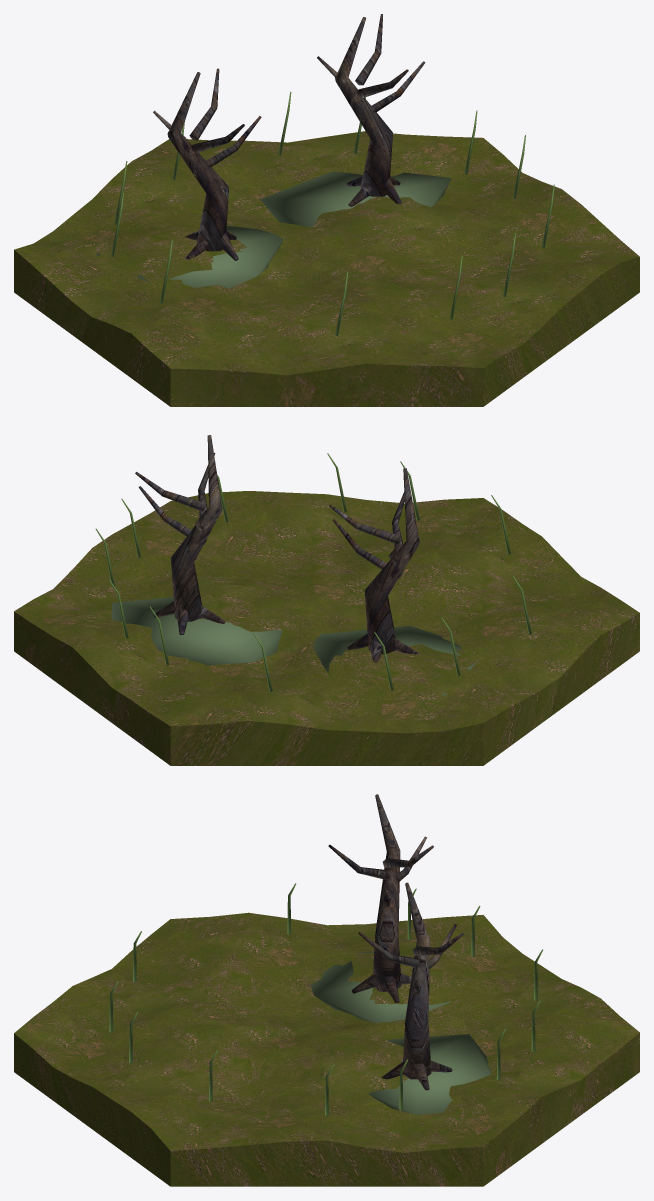
The model's file is env-terrain-swamp-mobile.glb.
3 renders of one model, top to bottom at view 1: azimuth 30°, elevation 25°; view 2: azimuth 150°, elevation 25°; view 3: azimuth 270°, elevation 25°, orthographic.
Parts seen in each view (by area): view 1: terrain swamp · authored textured miniature; view 2: terrain swamp · authored textured miniature; view 3: terrain swamp · authored textured miniature.
Part boxes in pixels (left/top/right/bottom): terrain swamp · authored textured miniature: left=14, top=14, right=639, bottom=406; terrain swamp · authored textured miniature: left=14, top=435, right=639, bottom=765; terrain swamp · authored textured miniature: left=14, top=794, right=639, bottom=1186.
Size of the model in its own units: 1.63 by 0.7518 by 1.88.
Materials: 4 (2 with a texture image).
